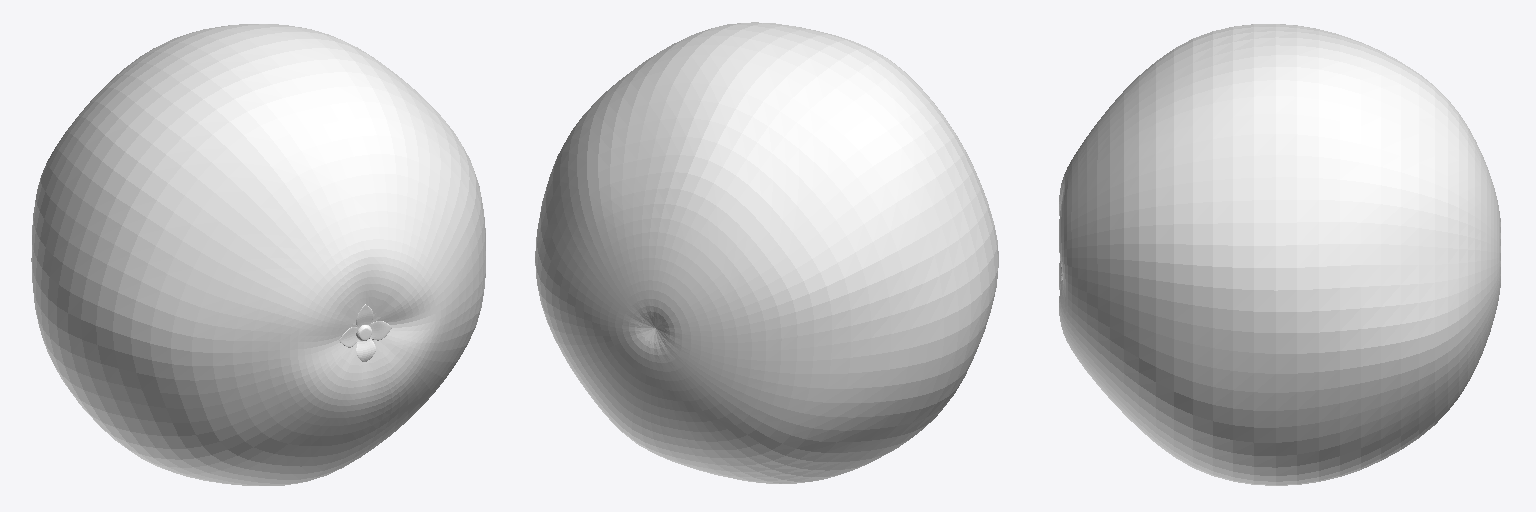
File: pomelo.obj
3 renders of one model, left to right at view 1: azimuth 30°, elevation 25°; view 2: azimuth 150°, elevation 25°; view 3: azimuth 270°, elevation 25°, orthographic.
Parts seen in each view (by area): view 1: 12205_Fruit_v1_L3; view 2: 12205_Fruit_v1_L3; view 3: 12205_Fruit_v1_L3.
Boxes of the visible parts, x1,y1,x2,y2 form: 12205_Fruit_v1_L3: [31, 24, 485, 485]; 12205_Fruit_v1_L3: [535, 22, 998, 483]; 12205_Fruit_v1_L3: [1059, 24, 1500, 485].
Bounding box in the file's own units: 0.8576 × 0.8576 × 0.8151.